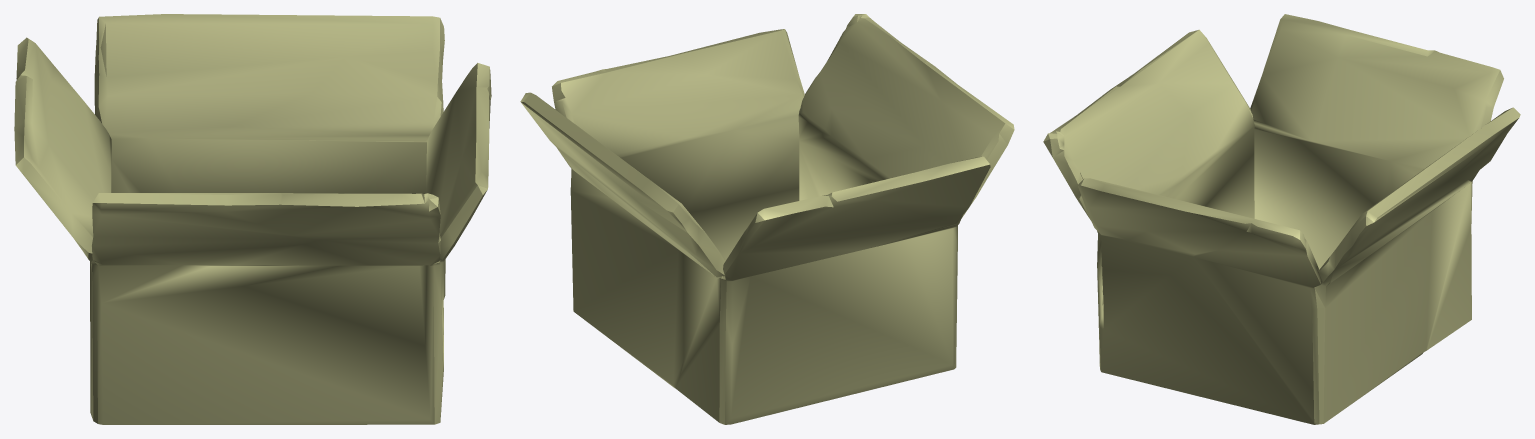
The picture shows the model from 3 angles, left to right: view 1: azimuth 30°, elevation 25°; view 2: azimuth 150°, elevation 25°; view 3: azimuth 270°, elevation 25°; orthographic projection. The views are drawn at different scales.
Parts seen in each view (by area): view 1: Box01; view 2: Box01; view 3: Box01.
Part boxes in pixels (x1,y1,x2,y2): Box01: (14,14,491,424); Box01: (520,14,1014,424); Box01: (1043,14,1520,424).
Size of the model in its own units: 67.31 by 35.79 by 67.08.
